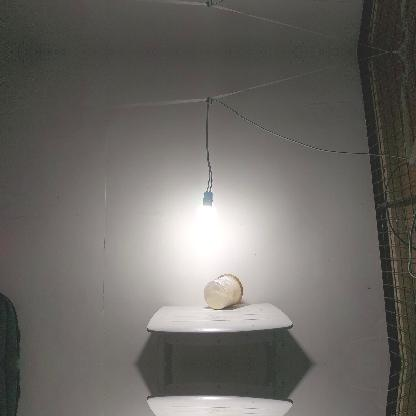Lady-s-Choice: (203, 273, 243, 309)
